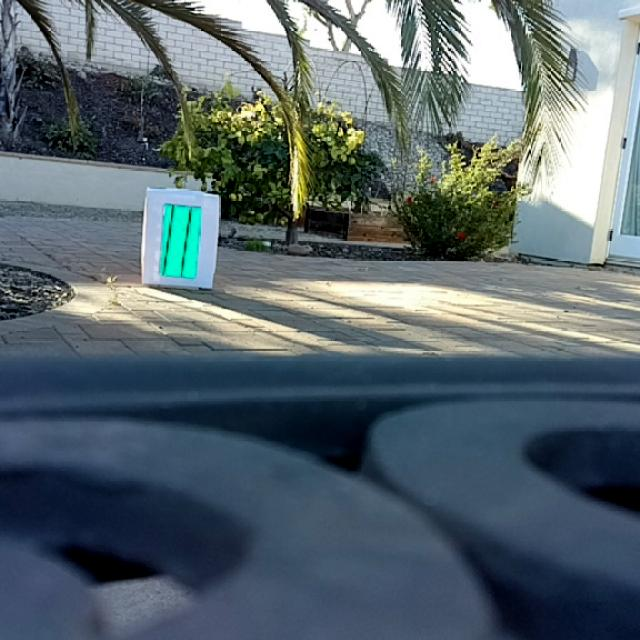led: (161, 203, 202, 278)
